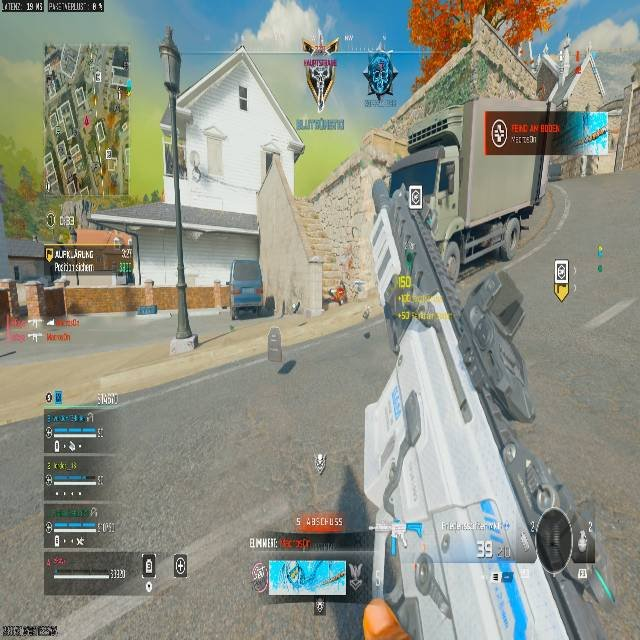player: (363, 55, 397, 102), (331, 285, 345, 305)
